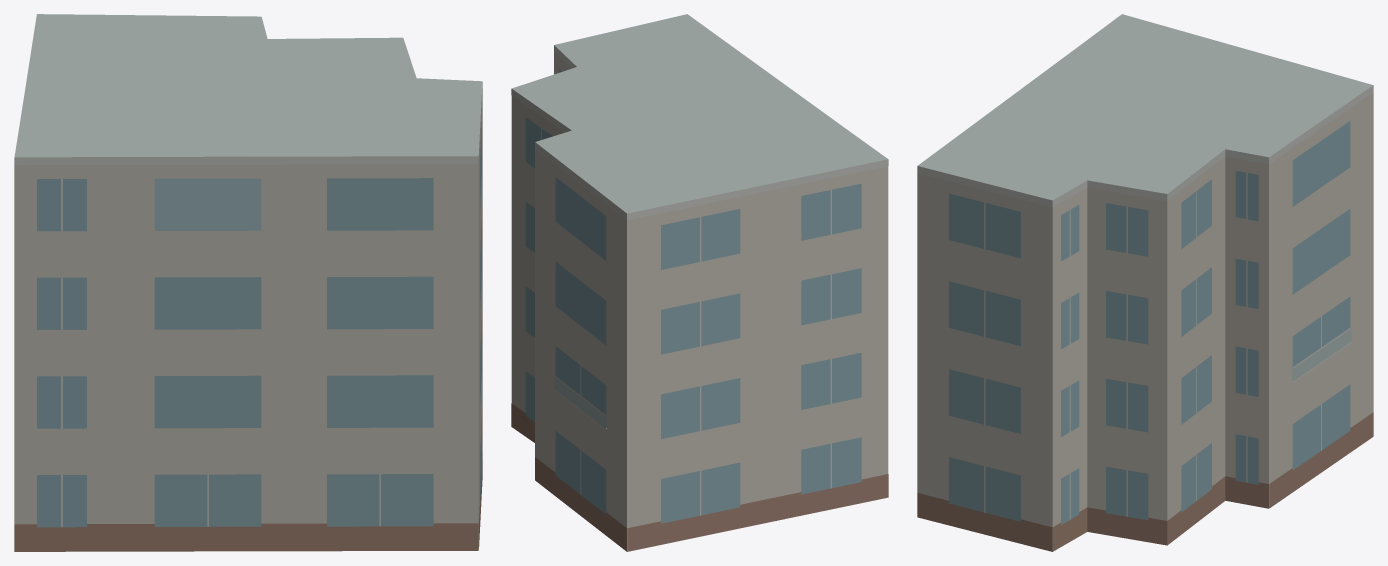
The model's file is survey-upis-32605042.glb.
3 views of the same model, side by side, from view 1: azimuth 30°, elevation 25°; view 2: azimuth 150°, elevation 25°; view 3: azimuth 270°, elevation 25° (orthographic). The views are drawn at different scales.
Visible parts, largest first — view 1: survey-upis-32605042.tmp; view 2: survey-upis-32605042.tmp; view 3: survey-upis-32605042.tmp.
Boxes of the visible parts, box(x1,y1,x2,y2) form: survey-upis-32605042.tmp: box(14, 14, 482, 551); survey-upis-32605042.tmp: box(511, 14, 888, 551); survey-upis-32605042.tmp: box(917, 14, 1373, 551).
Bounding box in the file's own units: 13.89 × 12.2 × 14.36.
